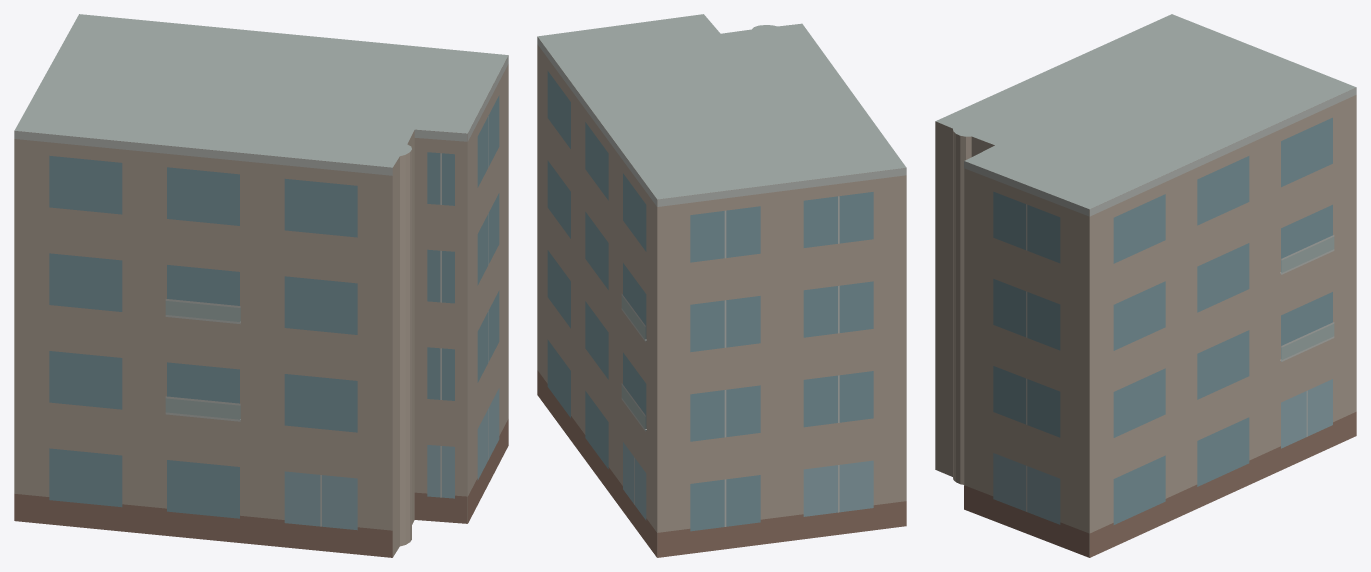
Rendered from survey-upis-32985392.glb.
The picture shows the model from 3 angles, left to right: view 1: azimuth 30°, elevation 25°; view 2: azimuth 150°, elevation 25°; view 3: azimuth 270°, elevation 25°; orthographic projection. The views are drawn at different scales.
Visible parts, largest first — view 1: survey-upis-32985392.tmp; view 2: survey-upis-32985392.tmp; view 3: survey-upis-32985392.tmp.
Boxes of the visible parts, left/top/right/bottom form: survey-upis-32985392.tmp: left=14, top=14, right=508, bottom=557; survey-upis-32985392.tmp: left=537, top=14, right=906, bottom=557; survey-upis-32985392.tmp: left=935, top=14, right=1356, bottom=557.
Bounding box in the file's own units: 13.95 × 11.6 × 12.71.
